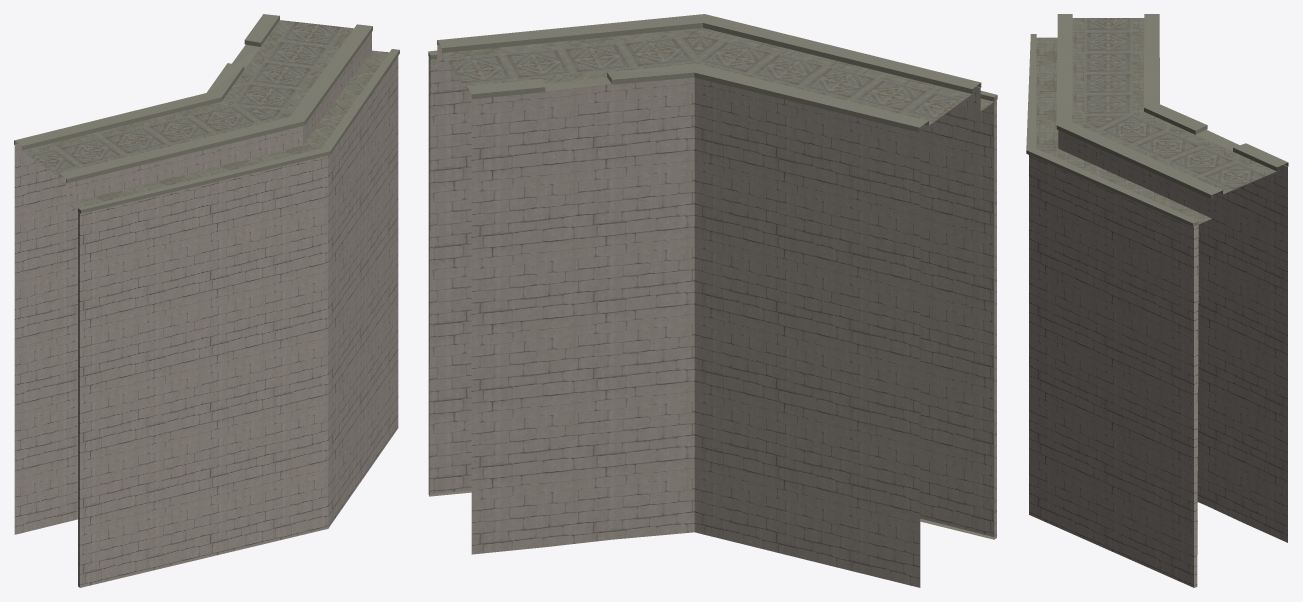
Rendered from AD_Ground_E_01.fbx.
3 renders of one model, left to right at view 1: azimuth 30°, elevation 25°; view 2: azimuth 150°, elevation 25°; view 3: azimuth 270°, elevation 25°, orthographic. The views are drawn at different scales.
Visible parts, largest first — view 1: AD_Ground_E_01; view 2: AD_Ground_E_01; view 3: AD_Ground_E_01.
Boxes of the visible parts, <box> form: AD_Ground_E_01: <box>14,14,399,587</box>; AD_Ground_E_01: <box>428,14,997,587</box>; AD_Ground_E_01: <box>1026,14,1288,587</box>.
Size of the model in its own units: 6403 by 6076 by 3742.
4 materials, 4 textured.
